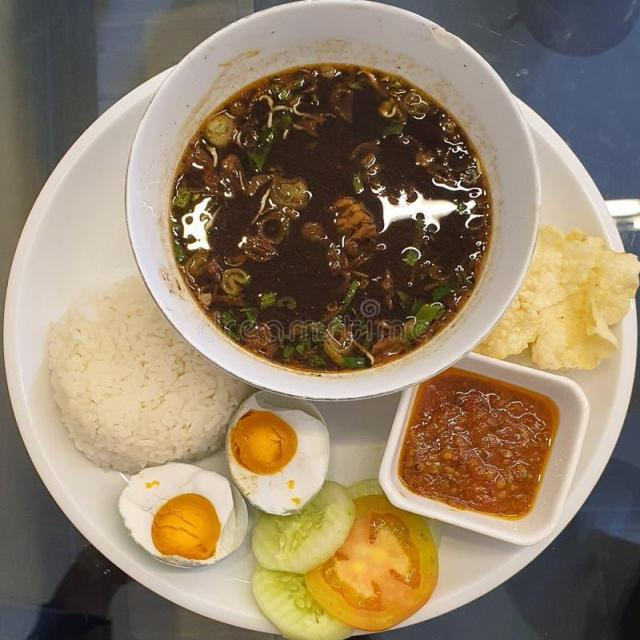Rawon: (181, 67, 479, 355)
